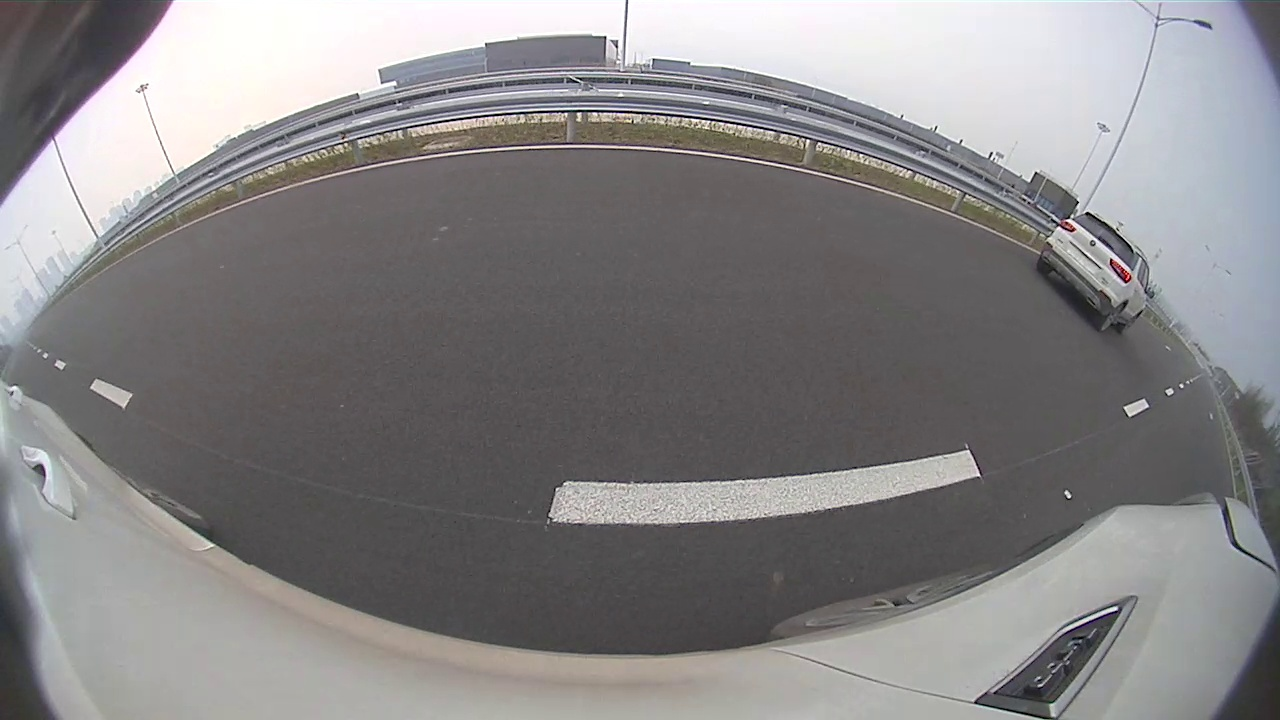car: (1, 280, 176, 483)
front: (67, 350, 158, 462)
